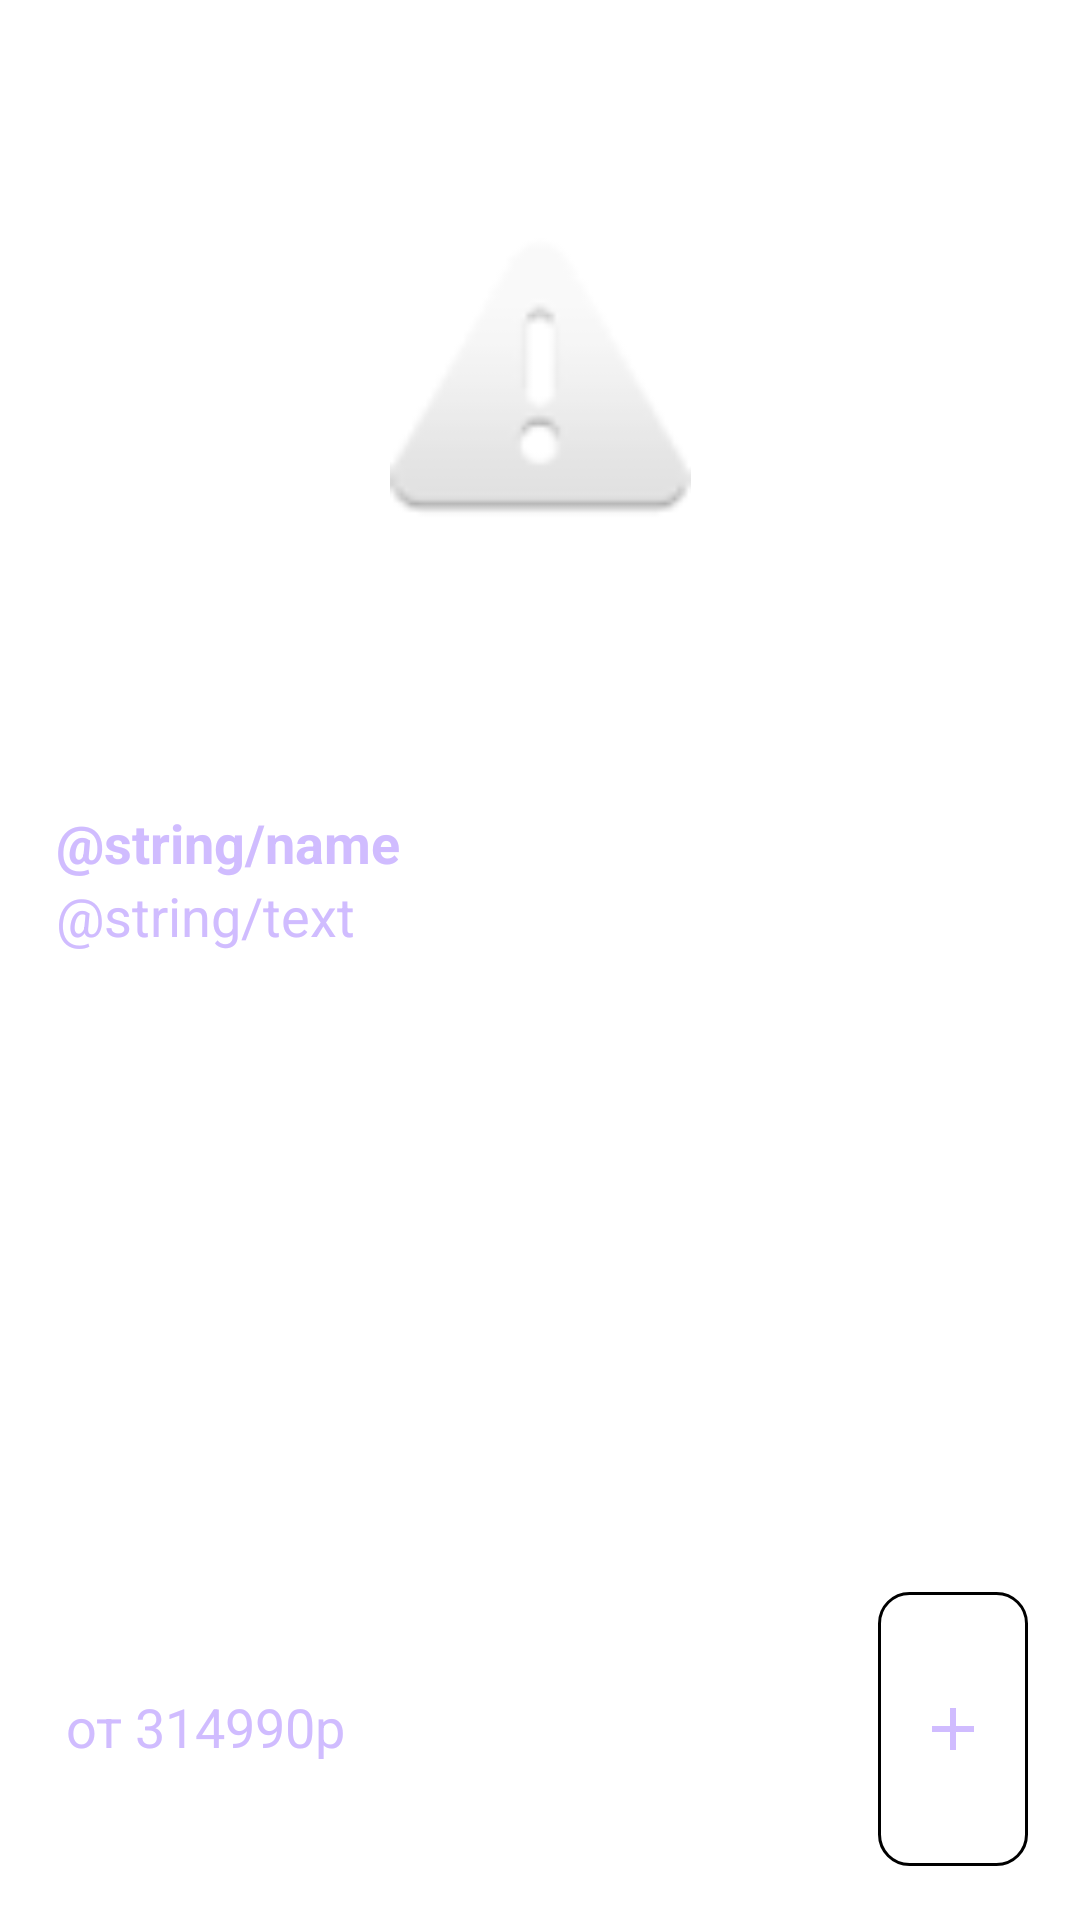

Icon bounding boxes for this 1080w x 1920h phone screenshot, format (x1=x1, y1=y1, x2=x2, y2=y2):
add: (x1=878, y1=1592, x2=1028, y2=1866)
alert: (x1=390, y1=308, x2=691, y2=511)
